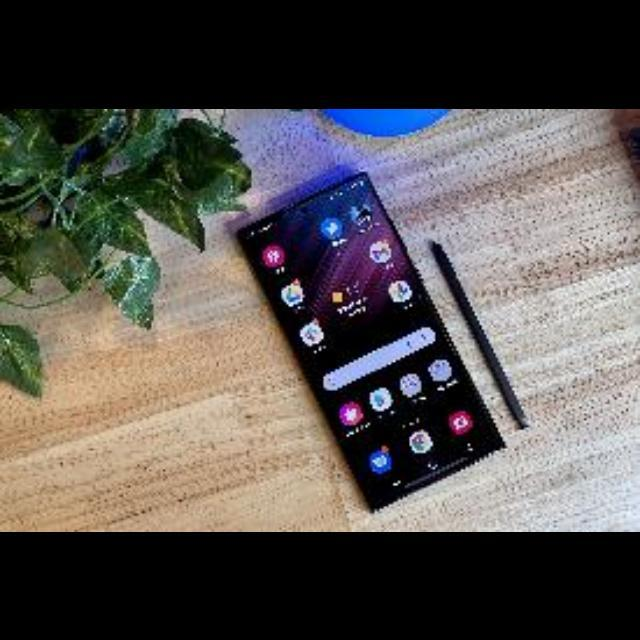Phone: (234, 170, 506, 512)
